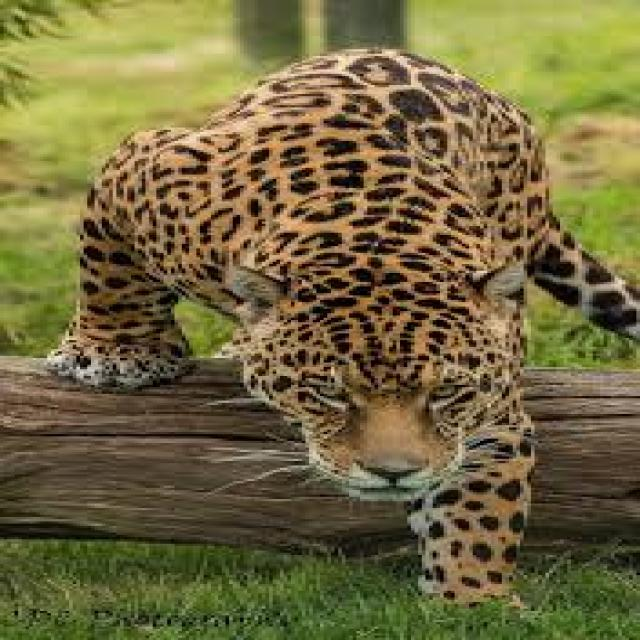Jaguar: (51, 36, 636, 600)
